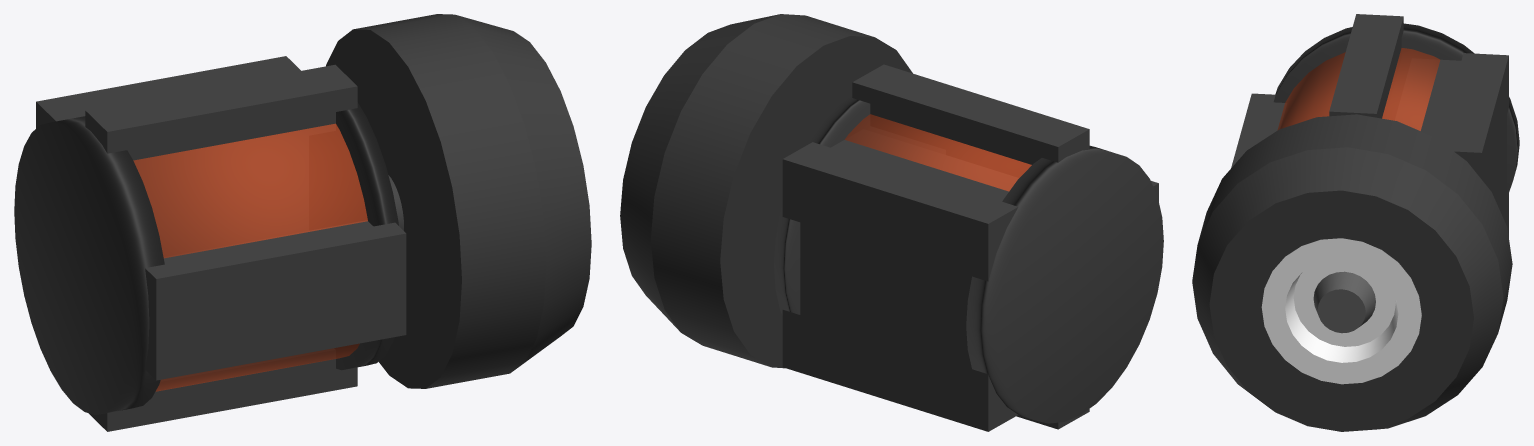
The model's file is wheel.glb.
3 views of the same model, side by side, from view 1: azimuth 30°, elevation 25°; view 2: azimuth 150°, elevation 25°; view 3: azimuth 270°, elevation 25° (orthographic). The views are drawn at different scales.
Visible parts, largest first — view 1: wheel_frontLeft.004, Cylinder.007, Cube.010, Cylinder.006, Cube.009, Cube.007, Cylinder.008, Cube.008; view 2: wheel_frontLeft.004, Cube.009, Cylinder.007, Cube.007, Cylinder.006, Cylinder.008; view 3: wheel_frontLeft.004, Cube.009, Cylinder.007, Cube.007, Cylinder.006, Cube.010.
Part boxes in pixels (bbox=[...]): wheel_frontLeft.004: bbox=[326, 14, 591, 388]; Cylinder.007: bbox=[14, 116, 164, 414]; Cube.010: bbox=[145, 220, 406, 380]; Cylinder.006: bbox=[133, 123, 367, 391]; Cube.009: bbox=[36, 56, 308, 256]; Cube.007: bbox=[85, 64, 357, 166]; Cylinder.008: bbox=[309, 102, 398, 370]; Cube.008: bbox=[88, 348, 357, 431]; wheel_frontLeft.004: bbox=[620, 14, 912, 368]; Cube.009: bbox=[782, 129, 1018, 431]; Cylinder.007: bbox=[966, 145, 1163, 423]; Cube.007: bbox=[852, 64, 1089, 173]; Cylinder.006: bbox=[844, 114, 1031, 191]; Cylinder.008: bbox=[774, 95, 945, 315]; wheel_frontLeft.004: bbox=[1192, 114, 1512, 431]; Cube.009: bbox=[1395, 53, 1508, 237]; Cylinder.007: bbox=[1273, 23, 1519, 197]; Cube.007: bbox=[1329, 14, 1403, 118]; Cylinder.006: bbox=[1277, 48, 1440, 130]; Cube.010: bbox=[1231, 93, 1286, 167].
Bounding box in the file's own units: 0.387 × 0.2695 × 0.2817.
